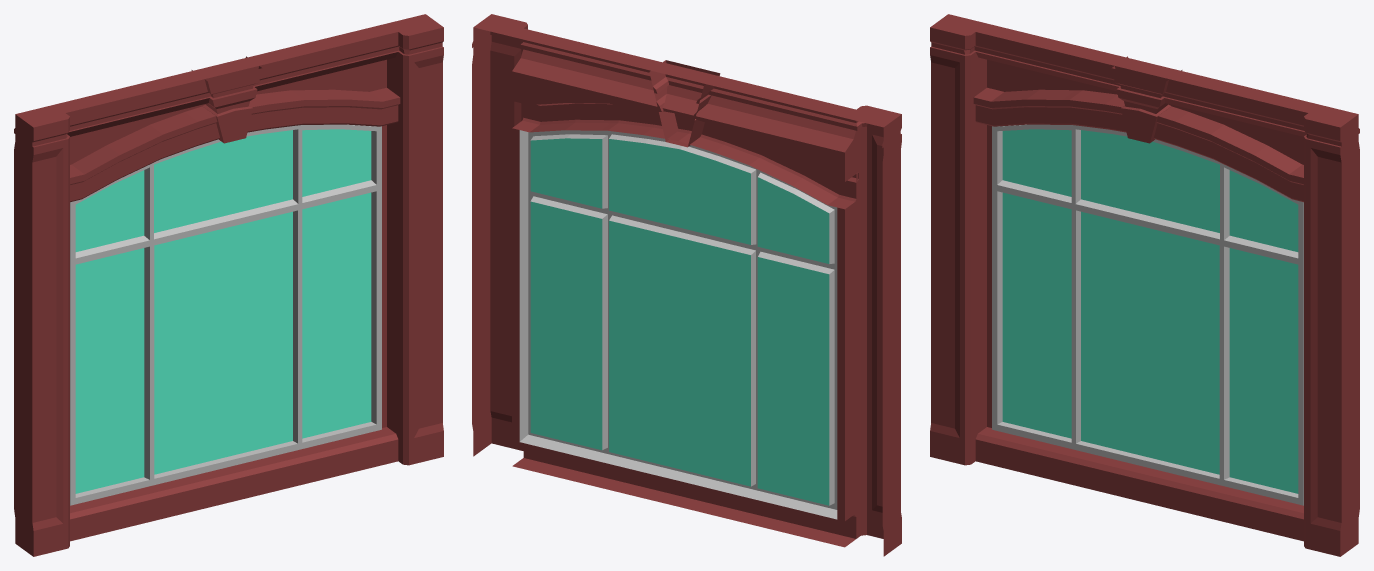
File: O_V_FacadeVitrine1_Down.fbx
The picture shows the model from 3 angles, left to right: view 1: azimuth 30°, elevation 25°; view 2: azimuth 150°, elevation 25°; view 3: azimuth 330°, elevation 25°; orthographic projection.
Parts seen in each view (by area): view 1: O_FacadeVitrine1_Down; view 2: O_FacadeVitrine1_Down; view 3: O_FacadeVitrine1_Down.
Boxes of the visible parts, left/top/right/bottom form: O_FacadeVitrine1_Down: left=14, top=14, right=443, bottom=556; O_FacadeVitrine1_Down: left=472, top=14, right=901, bottom=556; O_FacadeVitrine1_Down: left=930, top=14, right=1359, bottom=556.
Bounding box in the file's own units: 6.5 × 6.5 × 0.5484.
